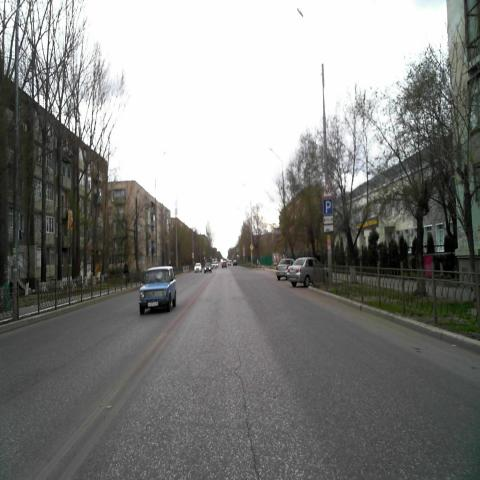1_23: (322, 183, 332, 197)
6_4: (323, 199, 333, 215)
8_2_1: (323, 215, 333, 224)
8_6_4: (323, 224, 334, 233)
